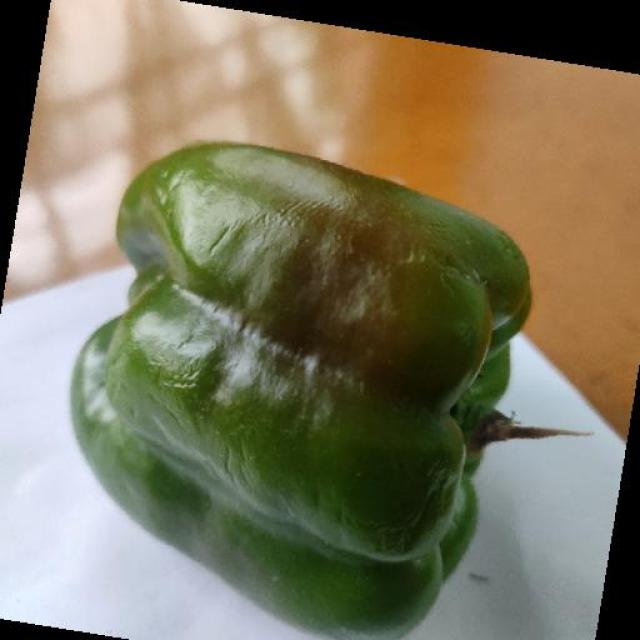Stale_Capsicum: (103, 149, 542, 617)
